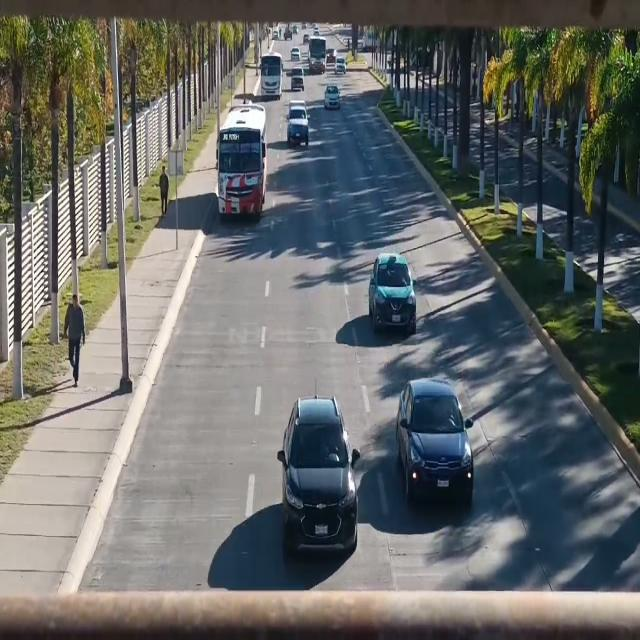Auto: (274, 384, 364, 563), (390, 371, 478, 519), (367, 249, 417, 338), (285, 94, 311, 156), (290, 62, 310, 92), (323, 82, 341, 114)
Autobus: (216, 100, 268, 220), (258, 46, 285, 104)
Peaton: (61, 287, 88, 389), (156, 162, 172, 220)
